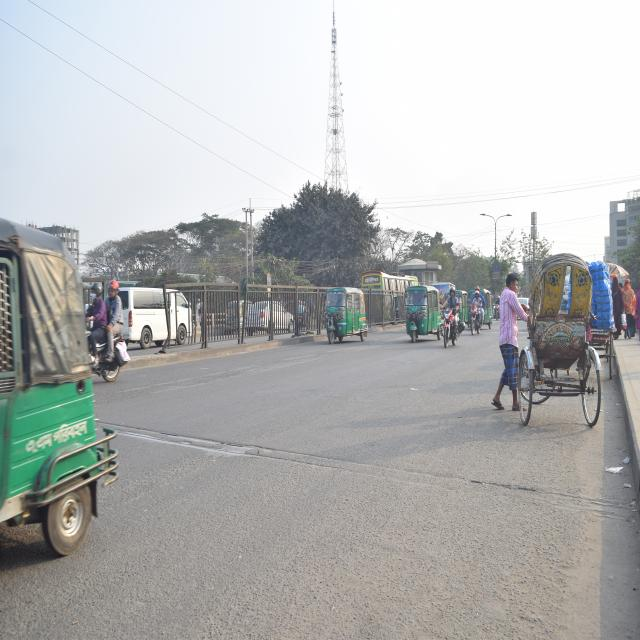microbus: (126, 279, 191, 349)
motorbike: (84, 303, 132, 387), (437, 298, 462, 354), (462, 296, 483, 342), (489, 294, 503, 324)
